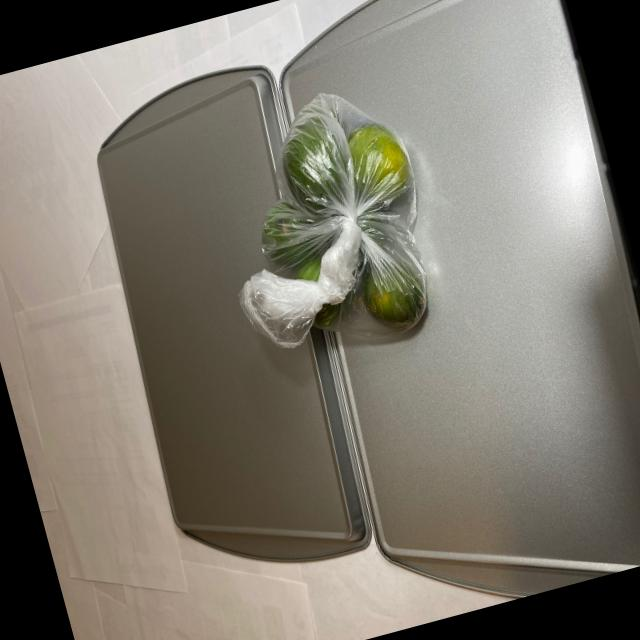lemon: (237, 88, 453, 358)
